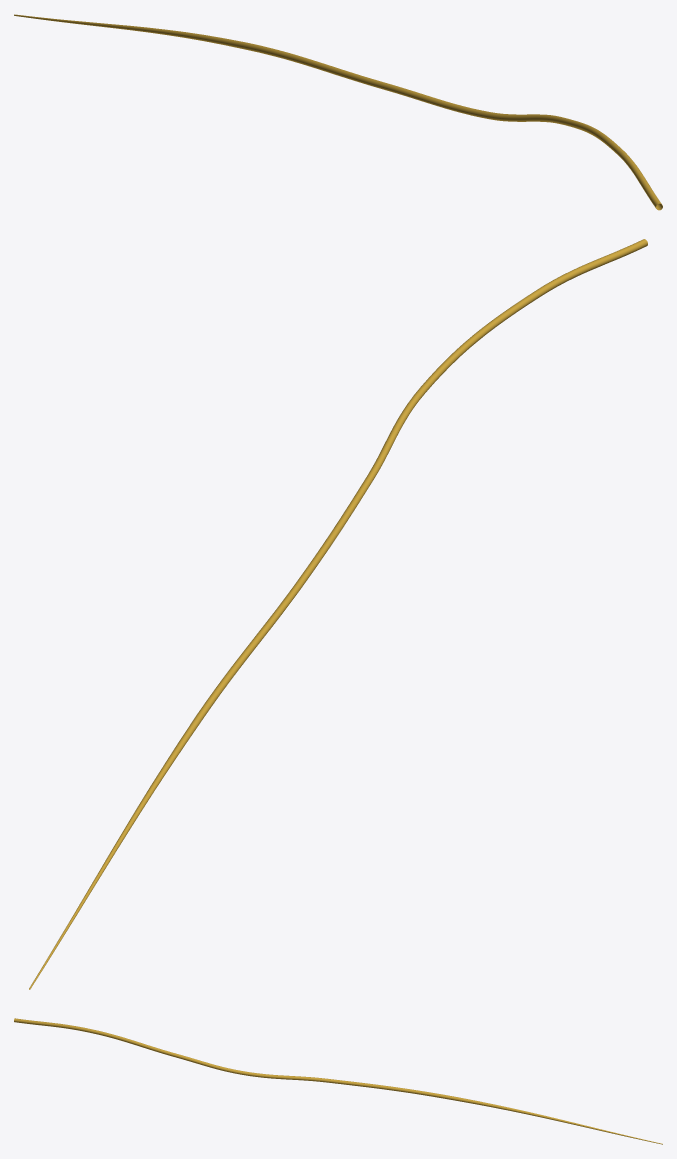
The picture shows the model from 3 angles, top to bottom: view 1: azimuth 30°, elevation 25°; view 2: azimuth 150°, elevation 25°; view 3: azimuth 270°, elevation 25°; orthographic projection. The views are drawn at different scales.
Parts seen in each view (by area): view 1: 右侧骨间后神经; view 2: 右侧骨间后神经; view 3: 右侧骨间后神经.
Boxes of the visible parts, box(x1,y1,x2,y2) form: 右侧骨间后神经: box(14, 14, 662, 210); 右侧骨间后神经: box(29, 239, 647, 989); 右侧骨间后神经: box(14, 1018, 662, 1144).
Bounding box in the file's own units: 0.0211 × 0.0562 × 0.2465.
